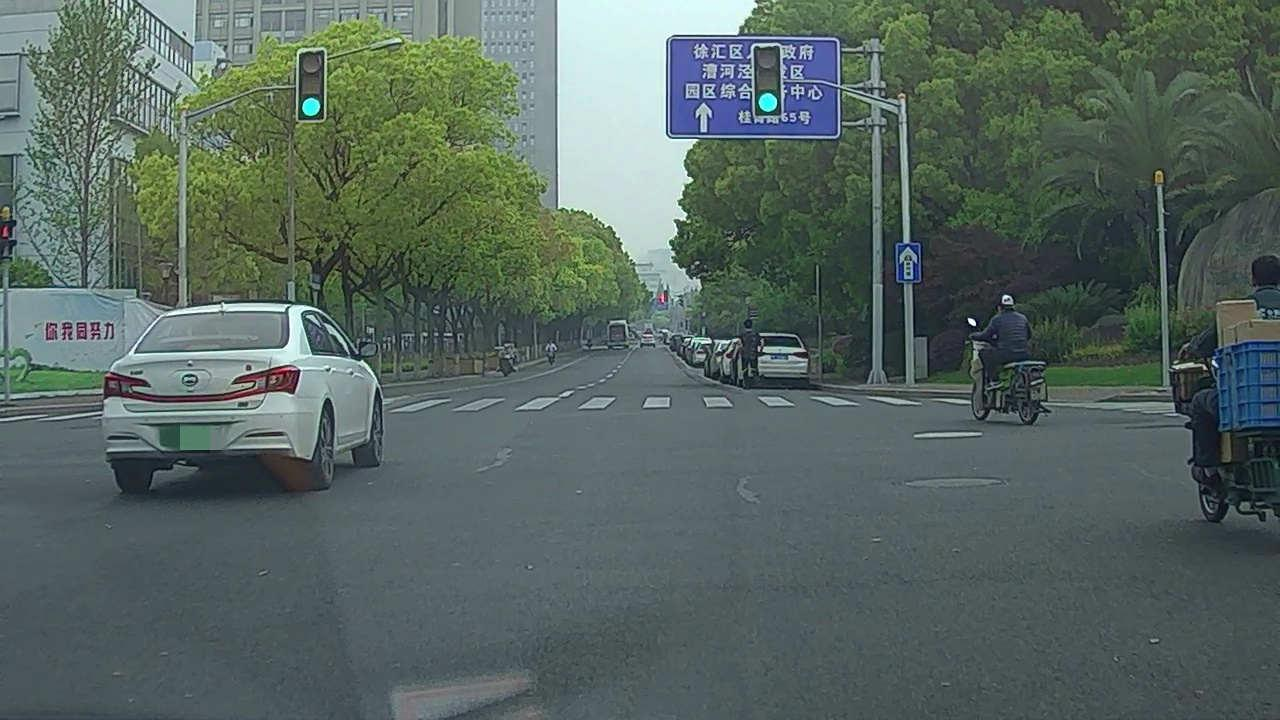traffic_light: (753, 44, 783, 116), (298, 48, 325, 121)
